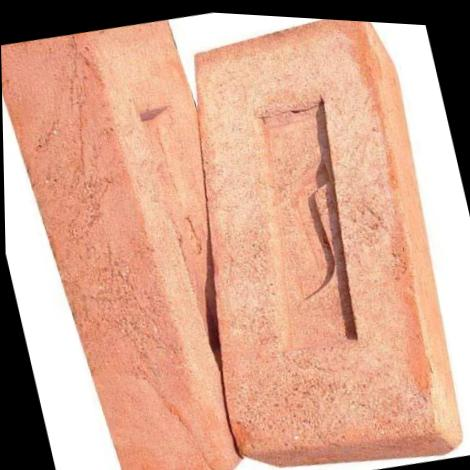brick: (136, 8, 457, 470), (0, 18, 229, 470)
